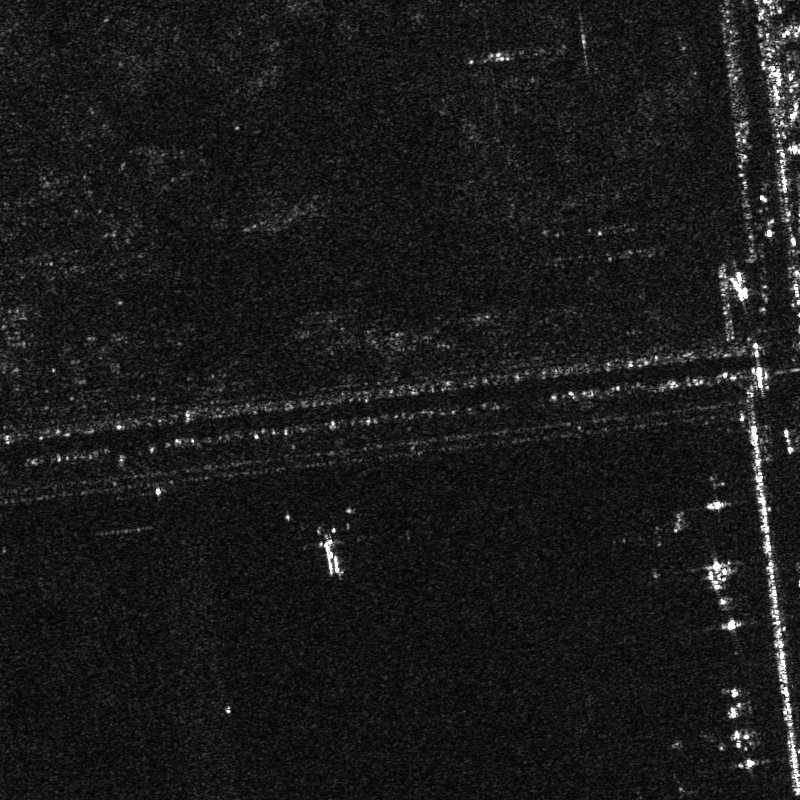Boeing787: (633, 759, 714, 799)
other: (300, 520, 355, 577)
